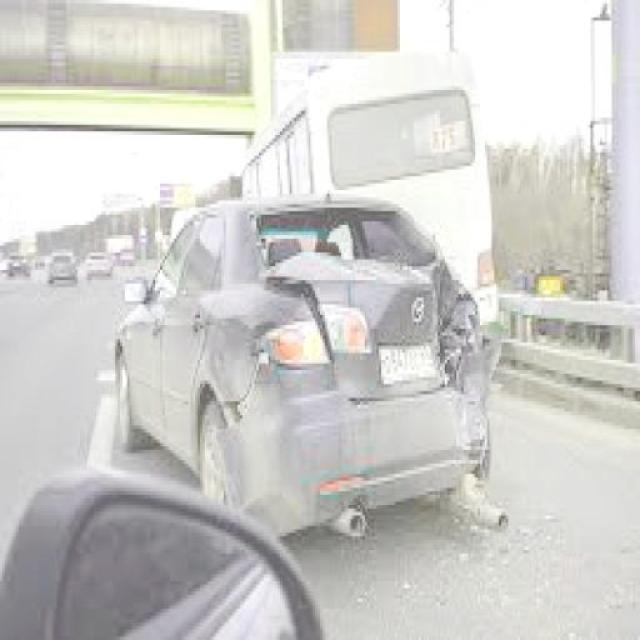car damage: (259, 250, 501, 463), (210, 319, 287, 534)
